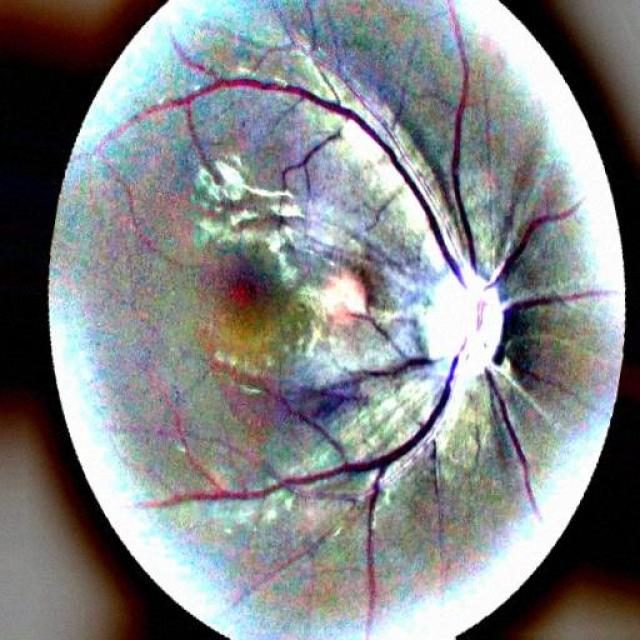Macula: (209, 246, 283, 329)
Nerves: (130, 325, 549, 624), (145, 22, 579, 298)
Optic Disk: (398, 247, 542, 402)
